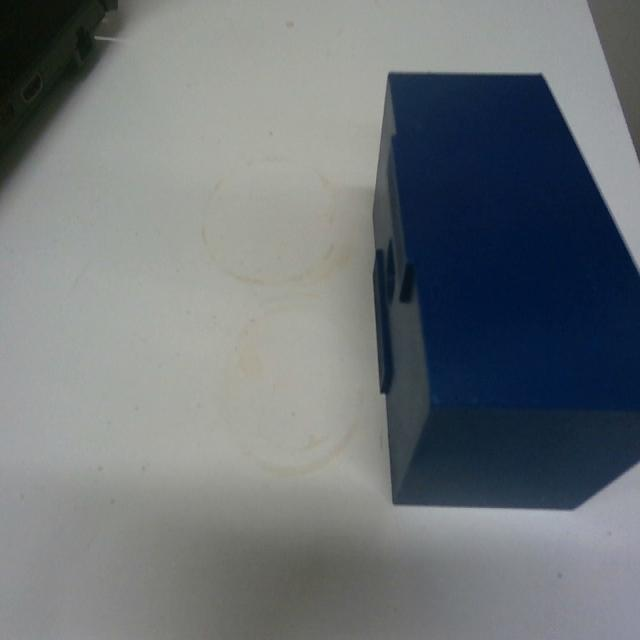Blue Cuboid: (368, 67, 639, 512)
